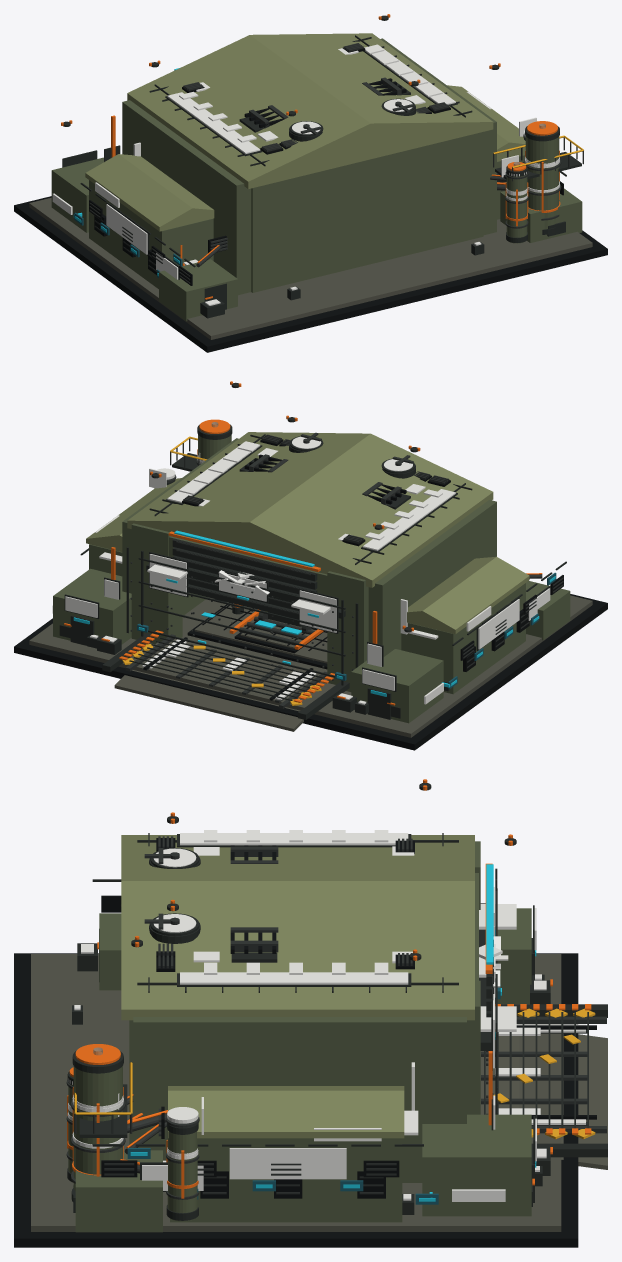
Rendered from Bastion_WarFactoryCMV2_Static.obj.
3 views of the same model, one above another, from view 1: azimuth 30°, elevation 25°; view 2: azimuth 150°, elevation 25°; view 3: azimuth 270°, elevation 25° (orthographic). The views are drawn at different scales.
Visible parts, largest first — view 1: sloped_main_roof_22, rear_wall_18, main_concrete_pad_1, main_left_wall_16, foundation_black_0, left_annex_roof_28, left_mid_annex_26, left_rear_service_block_32, main_rear_stack_body_93, front_left_service_block_30, main_right_wall_17, right_rear_service_block_33 (+5 smaller); view 2: sloped_main_roof_22, main_concrete_pad_1, foundation_black_0, main_left_wall_16, front_vehicle_ramp_2, left_annex_roof_28, left_mid_annex_26, front_right_pillar_21, front_left_service_block_30, front_left_pillar_20, front_right_service_block_31, bay_floor_visible_25 (+27 smaller); view 3: sloped_main_roof_22, main_right_wall_17, main_concrete_pad_1, foundation_black_0, right_annex_roof_29, right_mid_annex_27, front_right_service_block_31, right_rear_service_block_33, front_vehicle_ramp_2, v2_right_side_long_mid_plate_484, main_rear_stack_body_93, v2_roof_long_white_spine_489 (+16 smaller).
Boxes of the visible parts, x1=… form: sloped_main_roof_22: x1=127, y1=33, x2=493, y2=188; rear_wall_18: x1=251, y1=132, x2=483, y2=292; main_concrete_pad_1: x1=29, y1=197, x2=592, y2=339; main_left_wall_16: x1=122, y1=100, x2=251, y2=295; foundation_black_0: x1=14, y1=196, x2=607, y2=352; left_annex_roof_28: x1=85, y1=154, x2=214, y2=231; left_mid_annex_26: x1=89, y1=180, x2=213, y2=288; left_rear_service_block_32: x1=159, y1=259, x2=237, y2=321; main_rear_stack_body_93: x1=525, y1=136, x2=559, y2=234; front_left_service_block_30: x1=51, y1=157, x2=103, y2=232; main_right_wall_17: x1=380, y1=38, x2=496, y2=234; right_rear_service_block_33: x1=500, y1=188, x2=582, y2=242; sloped_main_roof_22: x1=127, y1=432, x2=493, y2=587; main_concrete_pad_1: x1=29, y1=595, x2=592, y2=737; foundation_black_0: x1=14, y1=594, x2=607, y2=750; main_left_wall_16: x1=368, y1=500, x2=496, y2=656; front_vehicle_ramp_2: x1=114, y1=638, x2=335, y2=731; left_annex_roof_28: x1=407, y1=556, x2=529, y2=634; left_mid_annex_26: x1=401, y1=583, x2=525, y2=694; front_right_pillar_21: x1=131, y1=523, x2=182, y2=644; front_left_service_block_30: x1=351, y1=649, x2=443, y2=723; front_left_pillar_20: x1=327, y1=571, x2=368, y2=691; front_right_service_block_31: x1=53, y1=568, x2=131, y2=644; bay_floor_visible_25: x1=194, y1=603, x2=327, y2=663; sloped_main_roof_22: x1=121, y1=835, x2=474, y2=1020; main_right_wall_17: x1=133, y1=1017, x2=466, y2=1182; main_concrete_pad_1: x1=31, y1=954, x2=561, y2=1231; foundation_black_0: x1=14, y1=953, x2=578, y2=1247; right_annex_roof_29: x1=168, y1=1086, x2=404, y2=1138; right_mid_annex_27: x1=170, y1=1138, x2=402, y2=1222; front_right_service_block_31: x1=422, y1=1114, x2=531, y2=1216; right_rear_service_block_33: x1=75, y1=1150, x2=162, y2=1232; front_vehicle_ramp_2: x1=480, y1=1034, x2=607, y2=1169; v2_right_side_long_mid_plate_484: x1=229, y1=1148, x2=346, y2=1179; main_rear_stack_body_93: x1=73, y1=1066, x2=122, y2=1190; v2_roof_long_white_spine_489: x1=180, y1=972, x2=408, y2=984.
Bounding box in the file's own units: 17 × 7.19 × 14.95.
12 materials, 12 textured.
